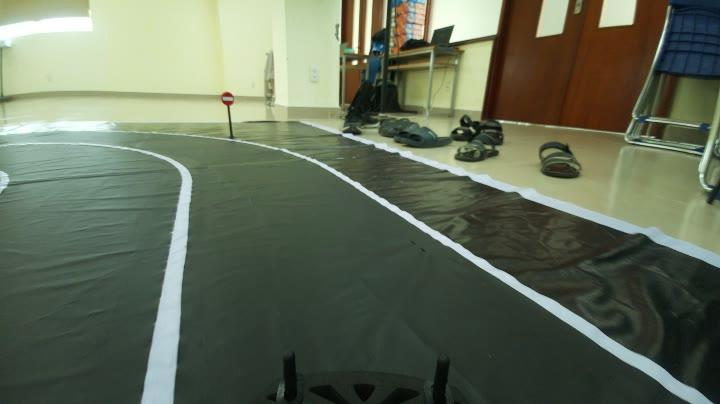no_entry: (219, 91, 240, 106)
